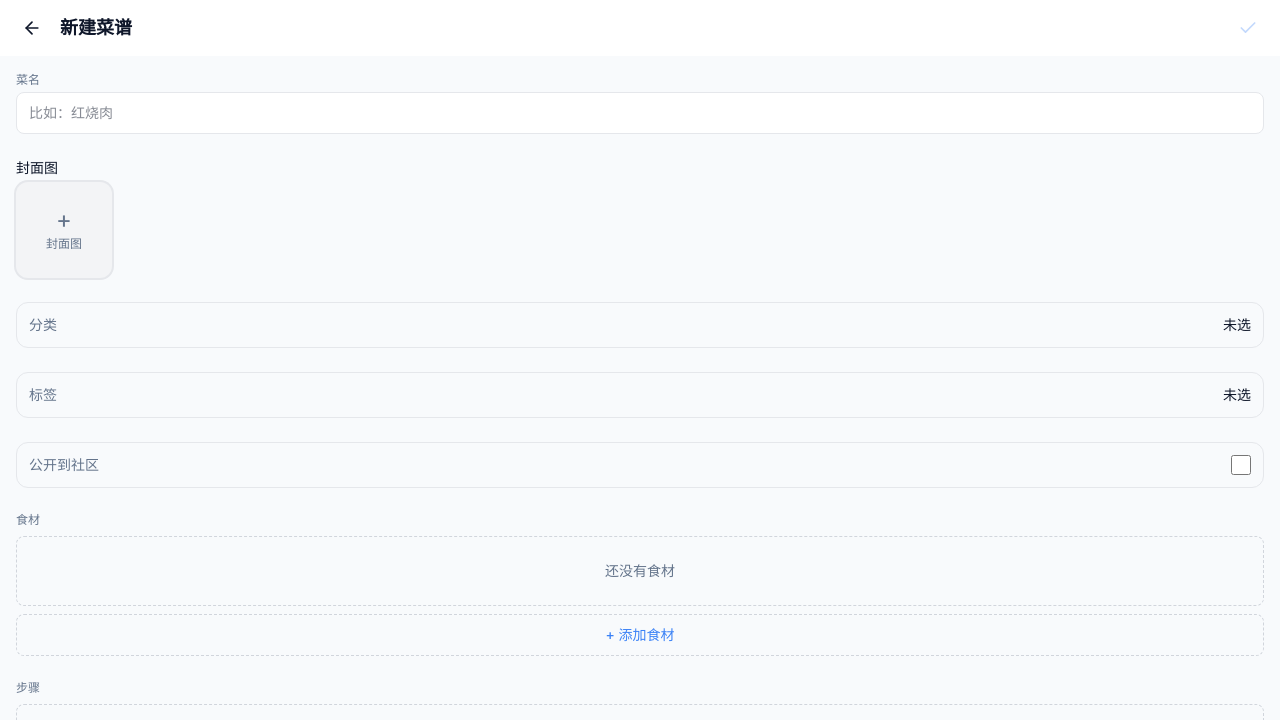
Test: RecipeEdit › 点分类行打开 RefSheet 单选，选中后行上显示分类名
Click the button with test id "category-row" at (43, 324), box [16,302,1264,348]
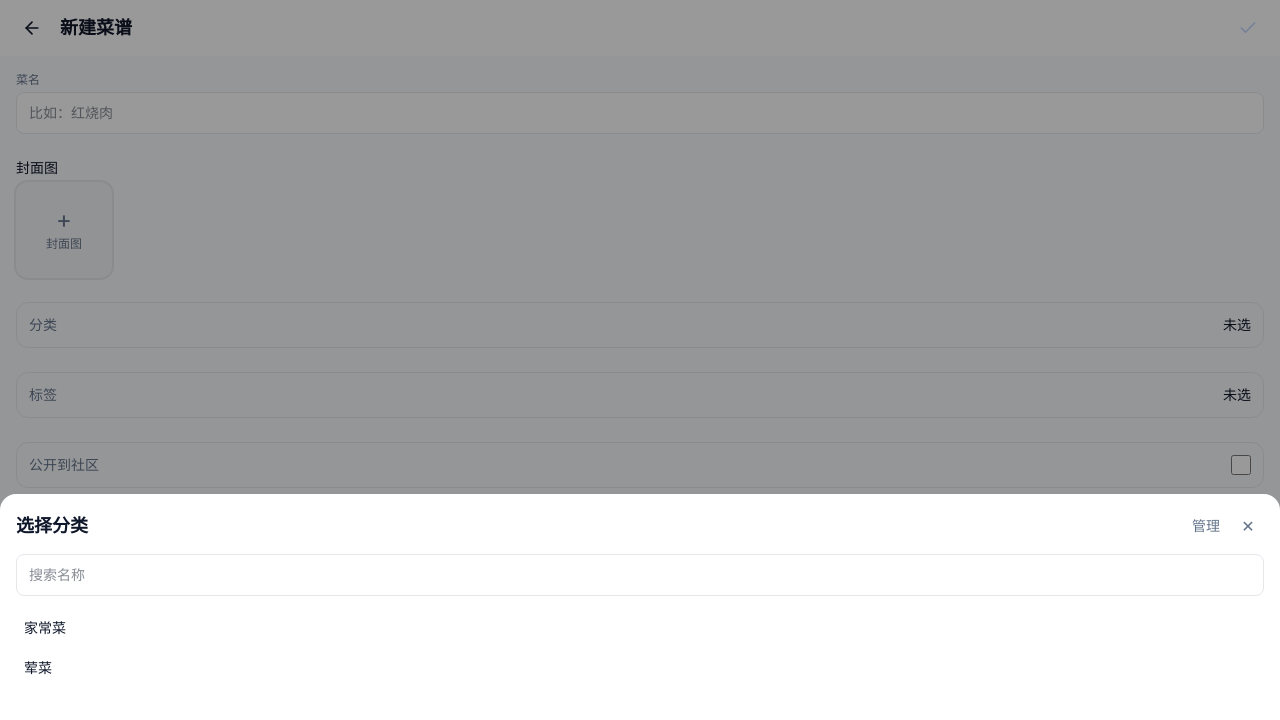
Click the element with test id "ref-row" showing "家常菜" at (45, 628), box [24,619,66,636]
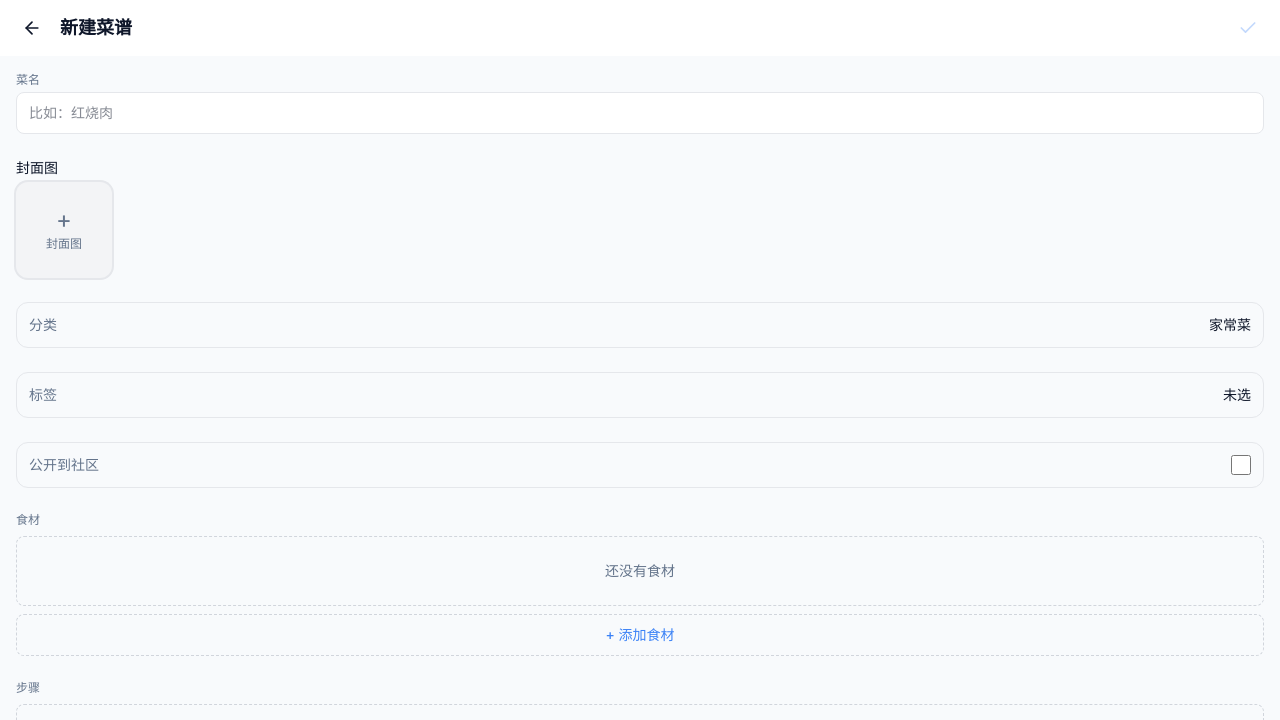
Expected: the text with test id "category-name" reads "家常菜", [1209,316,1251,333]
